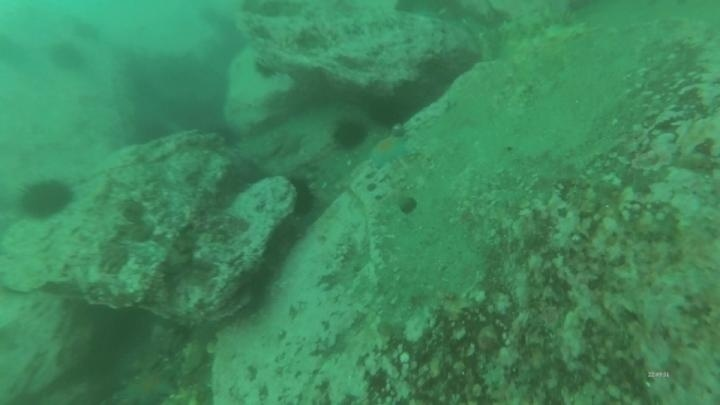echinus: (17, 176, 75, 222), (285, 173, 319, 220), (365, 94, 408, 129), (330, 117, 369, 152), (47, 40, 86, 74)
starfish: (114, 368, 178, 405), (366, 133, 413, 170)
